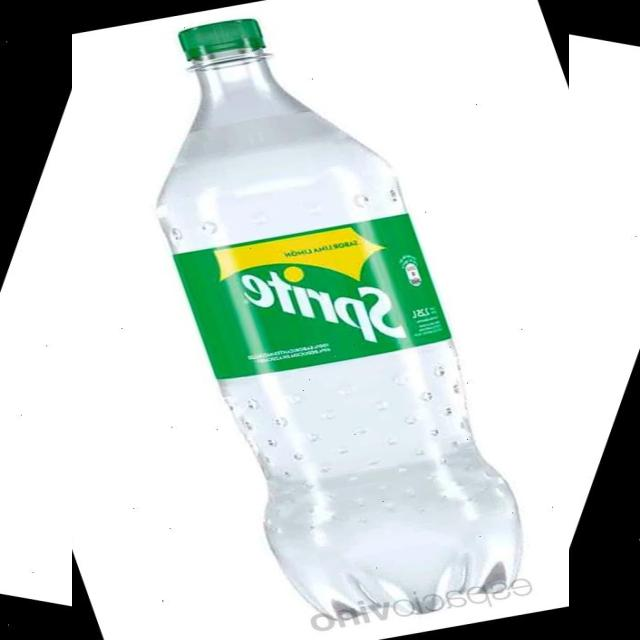sprite: (72, 0, 569, 640)
